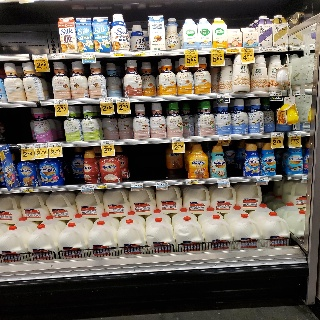All PRICE TAGS: (184, 49, 197, 55), (50, 54, 65, 59), (132, 51, 147, 56), (241, 47, 253, 53), (80, 184, 94, 189), (33, 54, 47, 59), (150, 50, 164, 55), (273, 46, 287, 51), (54, 99, 68, 104), (116, 97, 130, 102), (256, 176, 269, 181), (217, 178, 230, 183), (292, 45, 305, 50), (20, 144, 33, 149), (111, 52, 124, 57), (211, 48, 224, 53), (259, 47, 272, 52), (100, 98, 113, 103), (217, 93, 230, 98), (48, 142, 61, 147), (101, 140, 114, 145), (171, 137, 184, 142), (186, 179, 198, 184), (156, 180, 168, 185), (271, 132, 283, 137), (227, 48, 239, 53), (219, 135, 231, 140), (34, 144, 47, 148), (82, 53, 95, 57), (131, 182, 143, 186), (289, 132, 301, 136), (21, 188, 33, 192), (95, 185, 107, 189), (270, 91, 282, 95), (34, 144, 47, 147), (292, 90, 301, 94), (301, 174, 307, 178), (311, 45, 315, 49)
